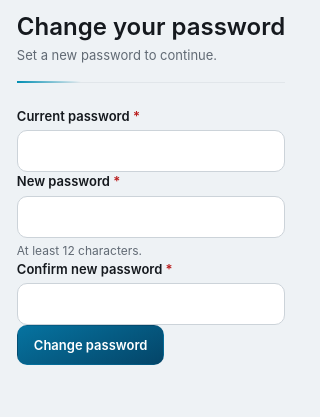
ChangePasswordPage — ESDMS-020 post-success behavior › a backend validation/error response leaves the user on the form with the real error, no session change
Type "OldPassword123!" into the password field labelled "Current password *" at point(151, 151), box [17, 130, 285, 172]
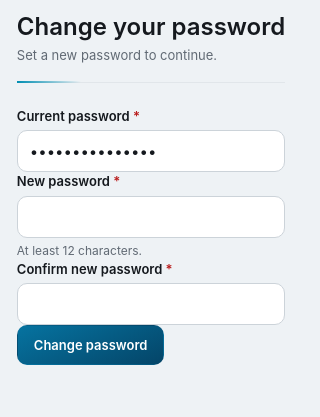
Type "NewPassword123!" into the password field labelled "New password *" at point(151, 216), box [17, 196, 285, 238]
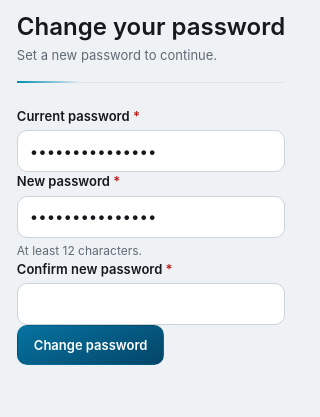
Type "NewPassword123!" into the password field labelled "Confirm new password *" at point(151, 304), box [17, 283, 285, 325]
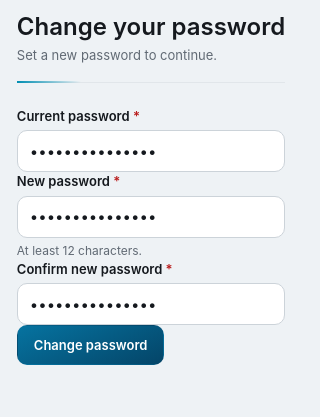
Click the button "Change password" at point(91, 345), box [17, 325, 164, 365]
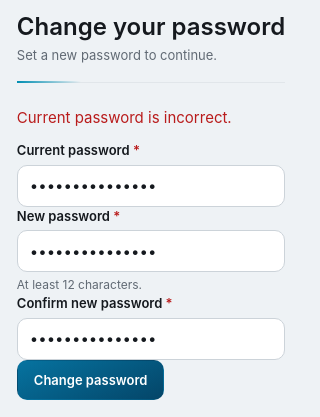
Expected: the message shows "Current password is incorrect", [17, 108, 232, 126]
